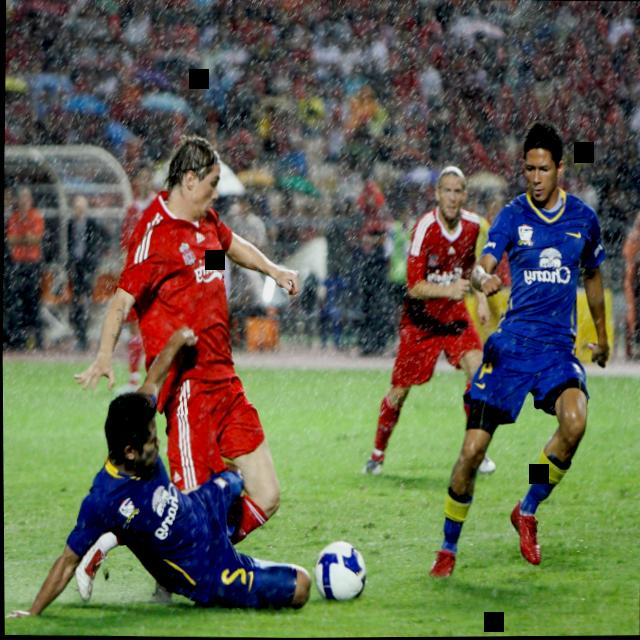Fall-Detected: (2, 329, 314, 623)
